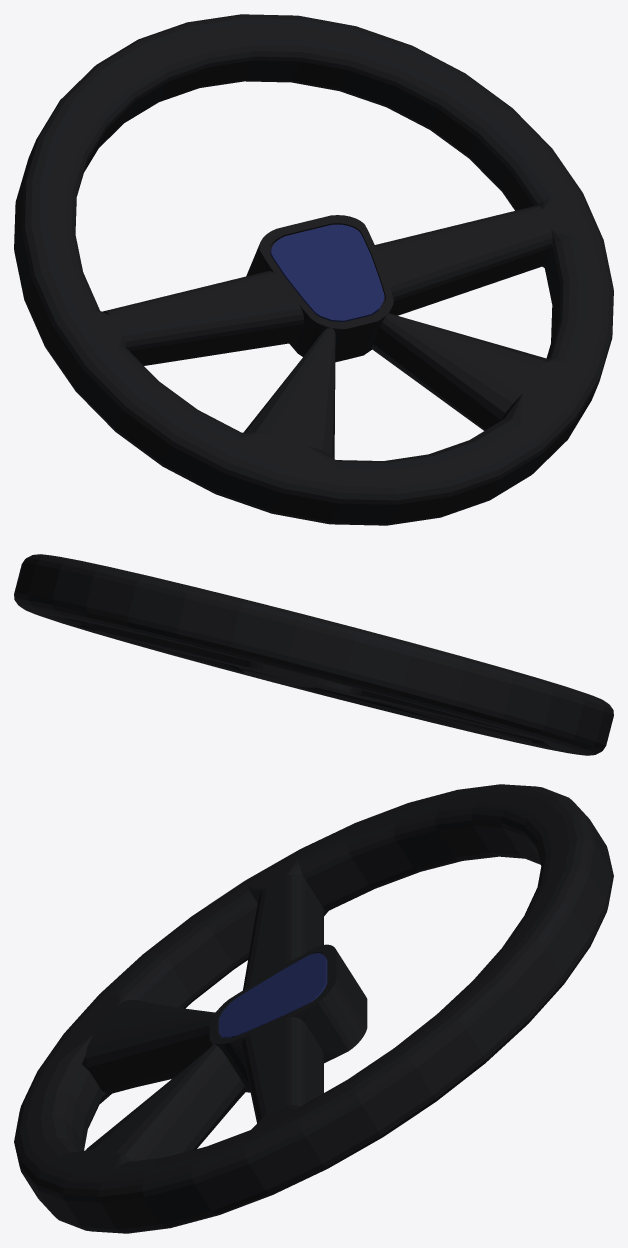
The model's file is SteeringWheelFix.fbx.
3 renders of one model, top to bottom at view 1: azimuth 30°, elevation 25°; view 2: azimuth 150°, elevation 25°; view 3: azimuth 270°, elevation 25°, orthographic. The views are drawn at different scales.
Visible parts, largest first — view 1: SteeringWheel; view 2: SteeringWheel; view 3: SteeringWheel.
Part boxes in pixels (x1,y1,x2,y2): SteeringWheel: [14, 14, 613, 525]; SteeringWheel: [14, 554, 613, 755]; SteeringWheel: [14, 784, 613, 1233].
Size of the model in its own units: 52.7 by 29.67 by 47.23.
